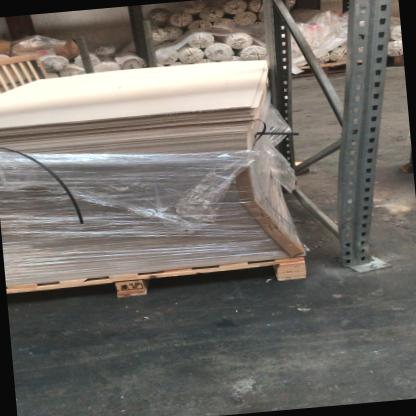vertical_damage: (336, 226, 403, 280)
